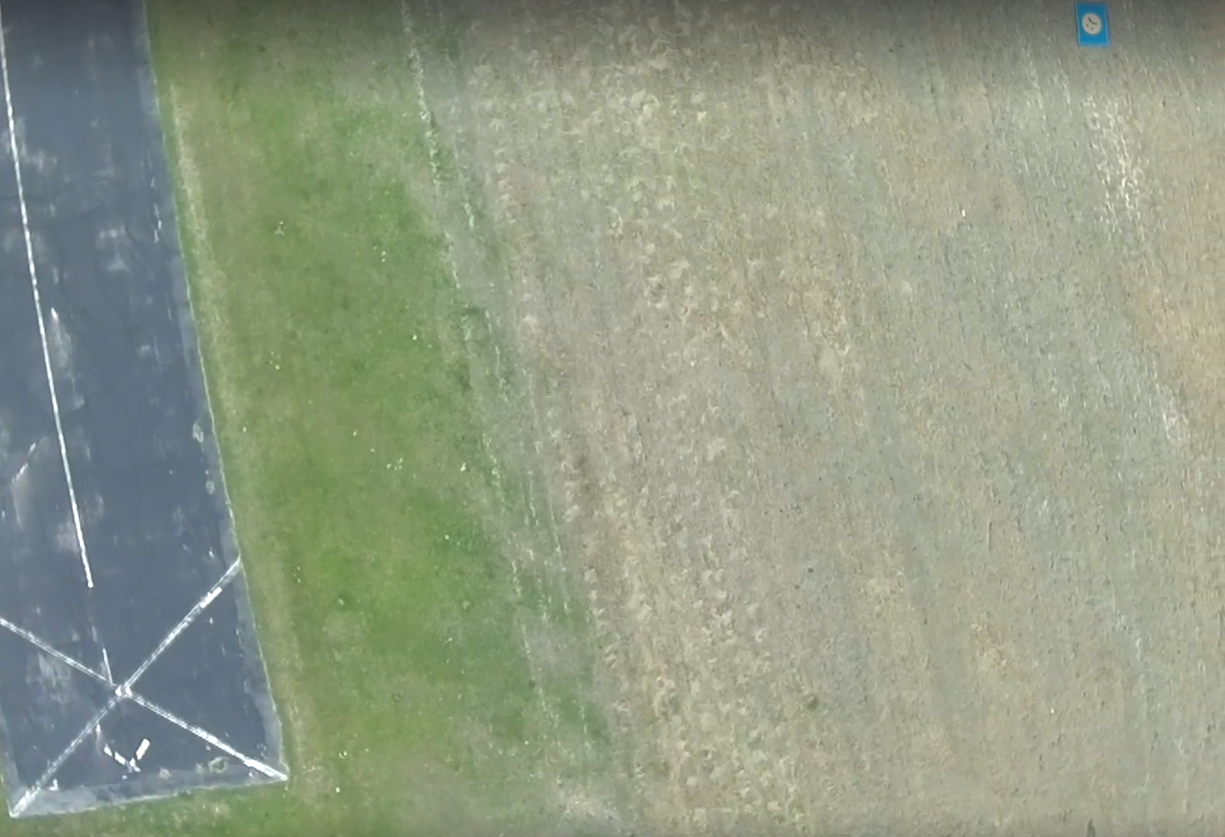CRT: (1080, 12, 1103, 35)
TOI: (1076, 2, 1109, 47)
